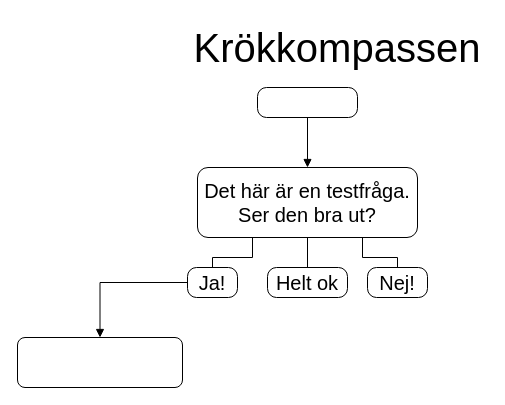
Some shapes in this 505 by 405 pixel diagram are drawn without their labels. The centre of each missing label's shape, as x and y in pixels:
"Start" belongs at pixel 307 102.
"Tack! Det här är ett slutkort." belongs at pixel 99 362.
